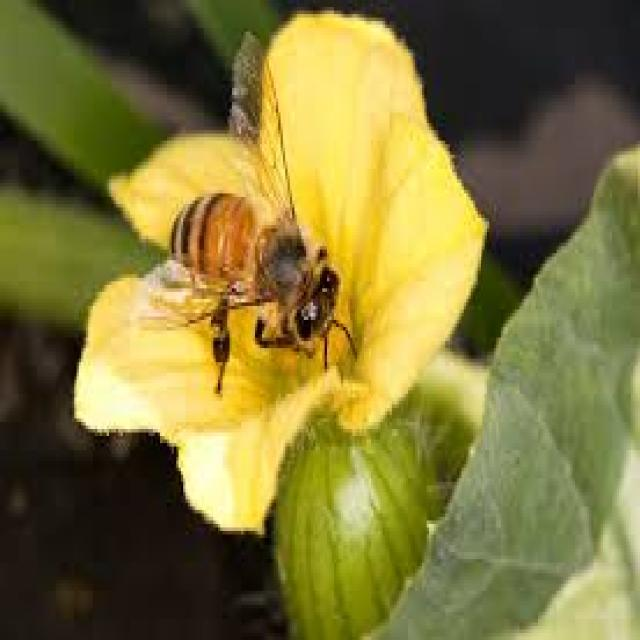Bees: (134, 31, 354, 399)
